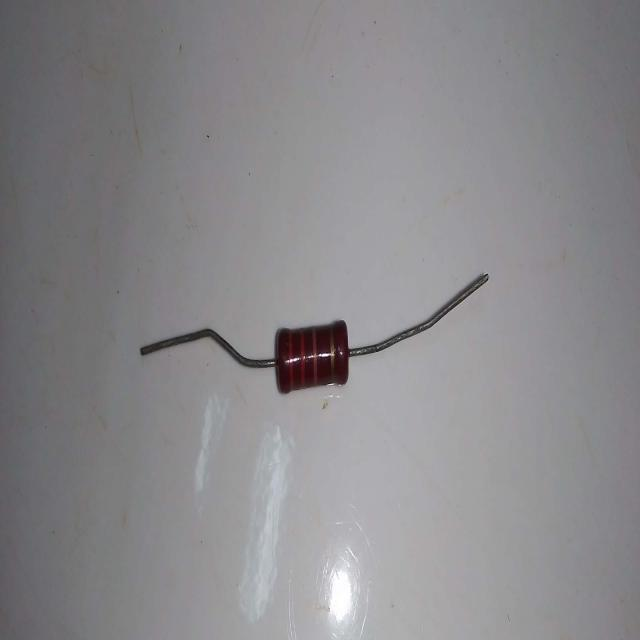Carbon Resistor: (137, 260, 506, 402)
